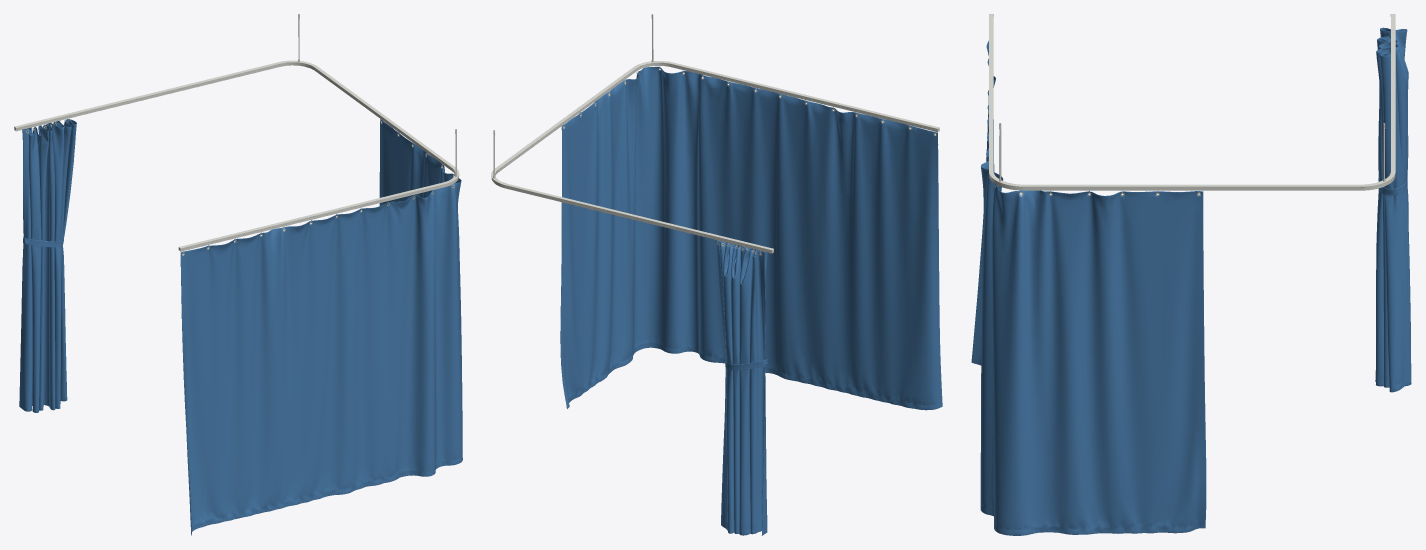
File: screen_hospital_b03.glb
The picture shows the model from 3 angles, left to right: view 1: azimuth 30°, elevation 25°; view 2: azimuth 150°, elevation 25°; view 3: azimuth 270°, elevation 25°; orthographic projection. The views are drawn at different scales.
Size of the model in its own units: 3.18 by 3.45 by 3.38.
